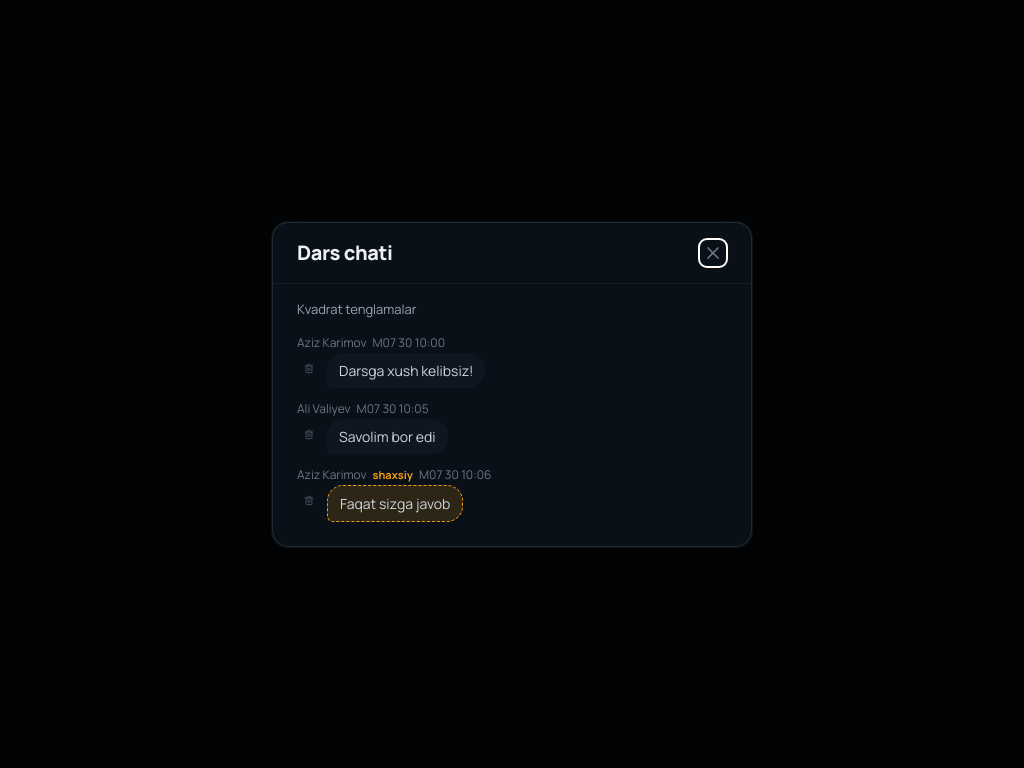
Test: ChatHistoryModal › xabar tasdiqdan keyin o‘chiriladi va ro‘yxatdan yo‘qoladi
The width and height of the screenshot is (1024, 768).
Expected: the text "Savolim bor edi" is shown, x1=339 y1=426 x2=436 y2=446
# Har xabar yonida o'chirish tugmasi (ustoz oynasi).
Click the button named "Xabarni o'chirish" next to "Savolim bor edi": (309, 434) x1=297 y1=422 x2=321 y2=446
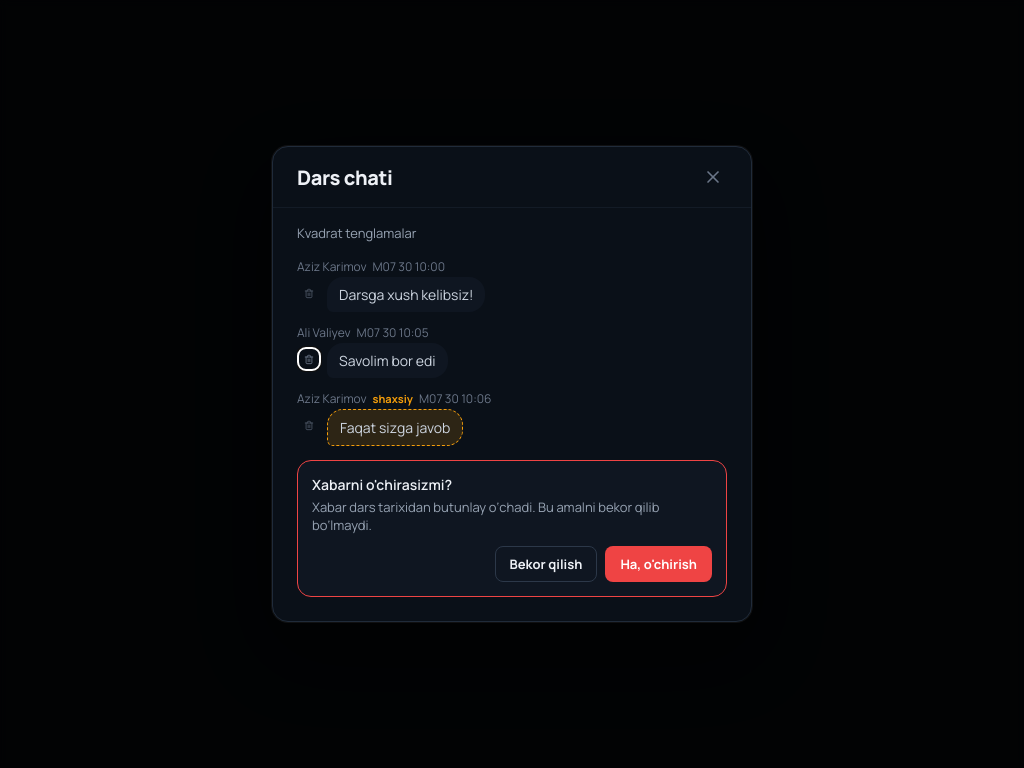
Click the button "Ha, o'chirish": (659, 564) x1=605 y1=546 x2=712 y2=582
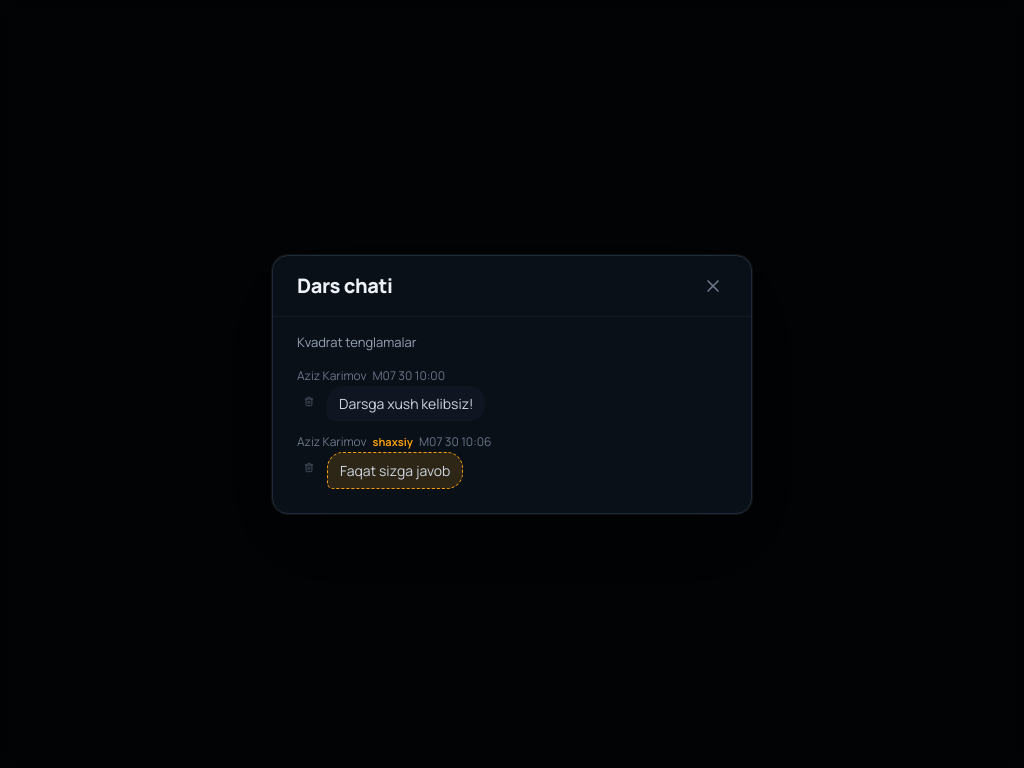
Expected: the text "Savolim bor edi" is gone
